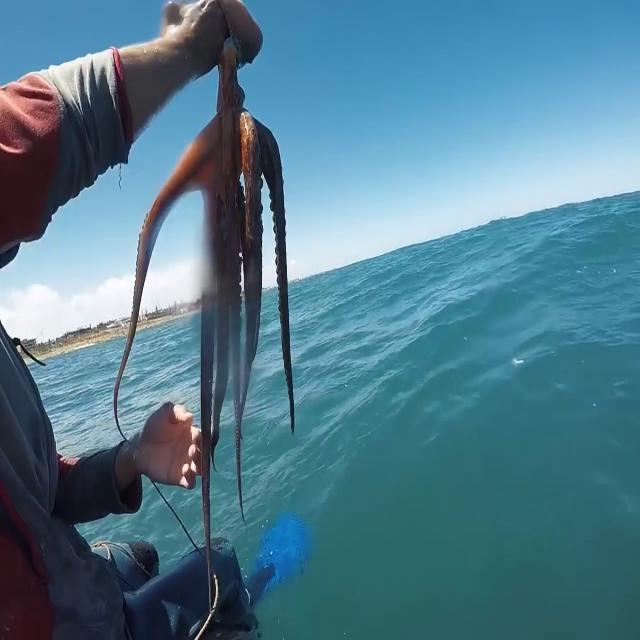octopus: (112, 0, 299, 628)
